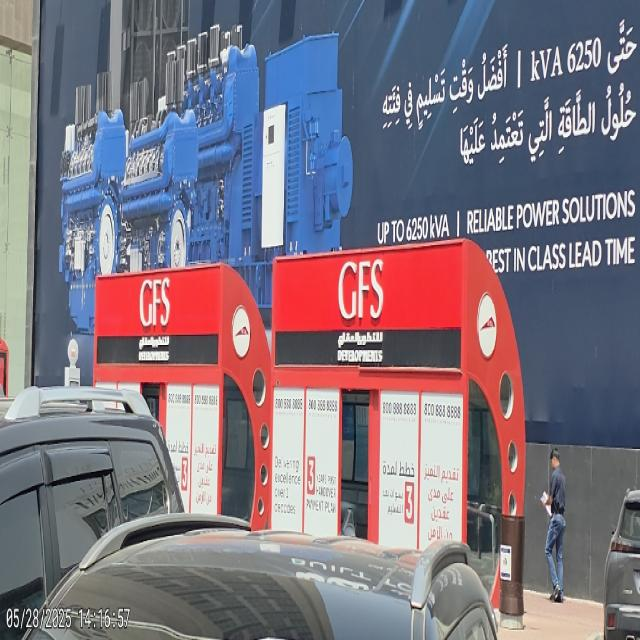poster: (269, 240, 467, 546)
